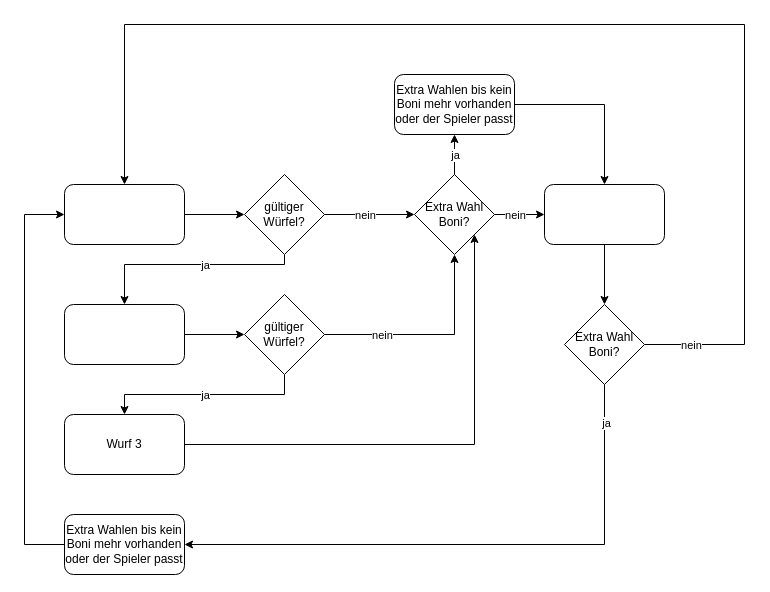
The diagram is 770 pixels wide and 592 high, and some of its shapes have lost their labels. The centre of each missing label's shape, as x and y in pixels:
Wahl vom Silbertablett: (x=604, y=214)
Wurf 1: (x=124, y=214)
Wurf 2: (x=124, y=334)
